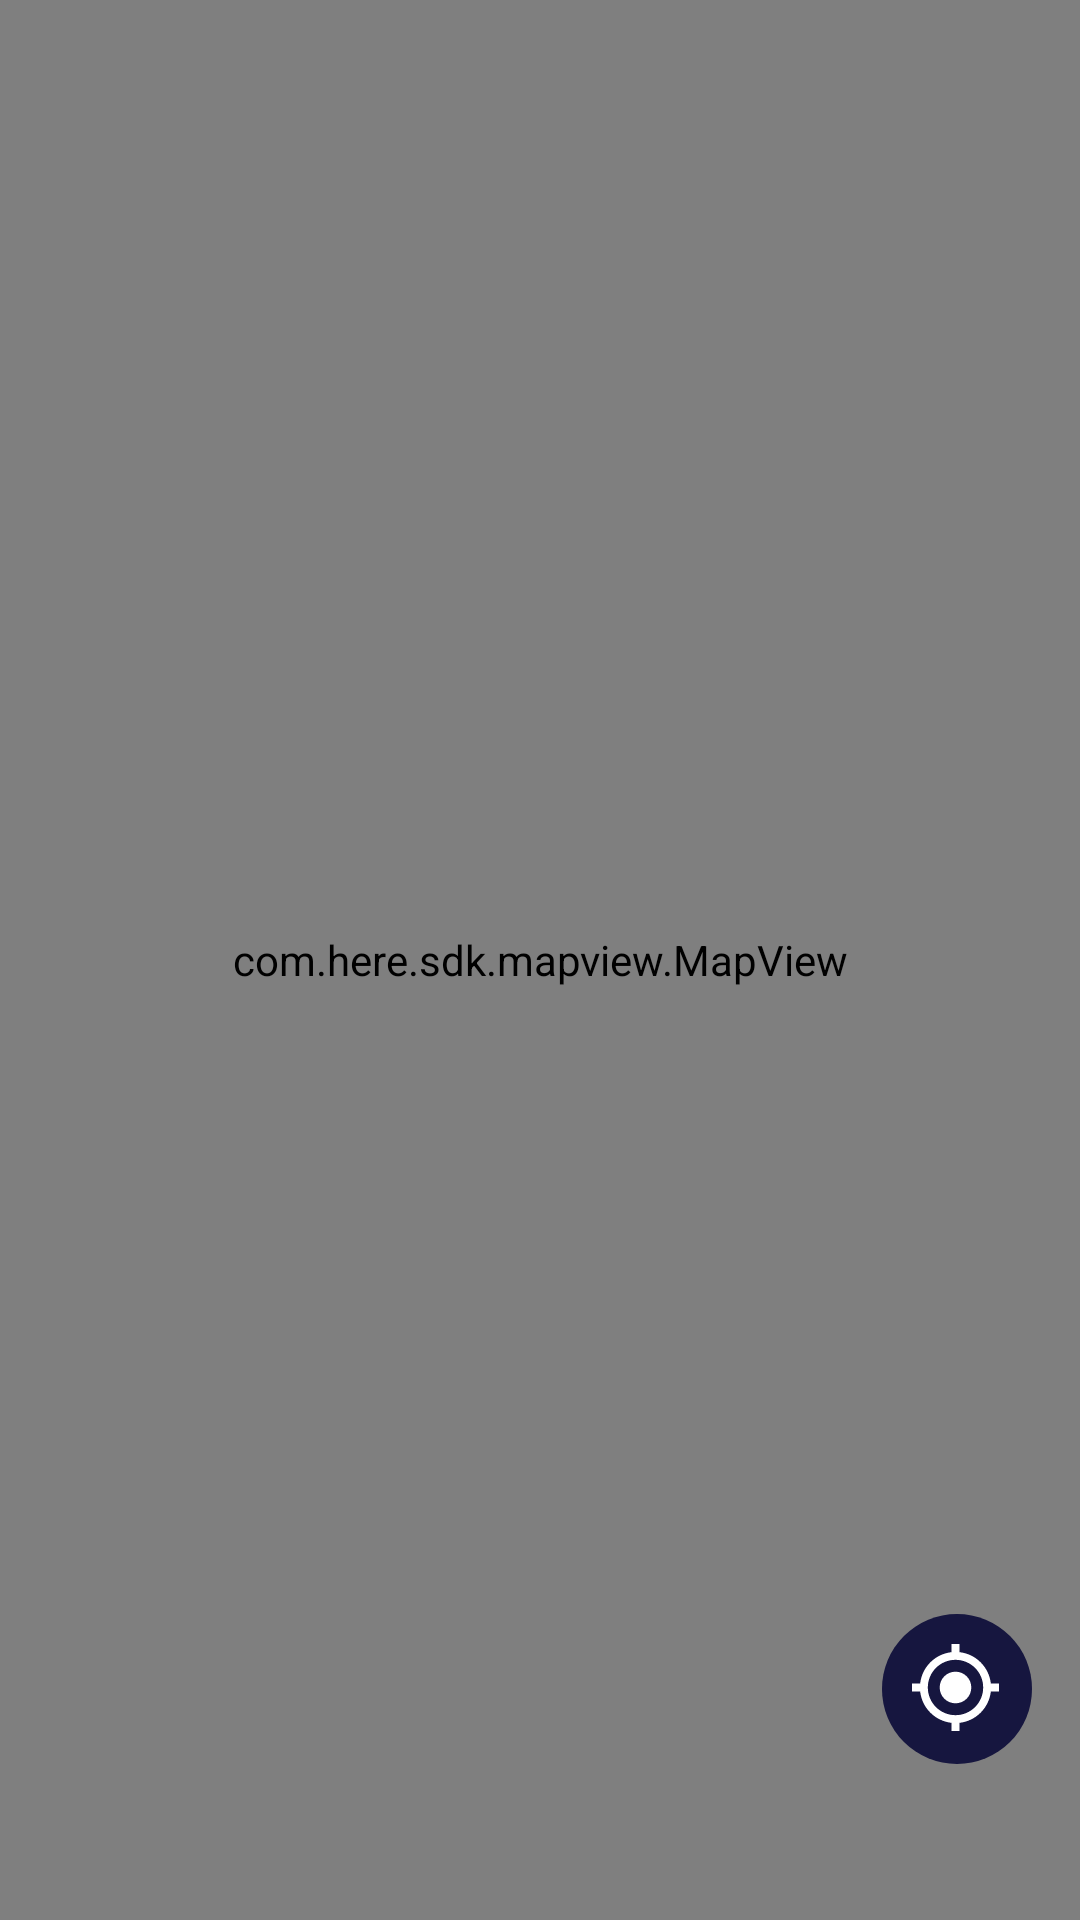

Point at icon controls on the screen. Image size 1080 × 1920, points as (x=x, y=y).
current loc: (x=957, y=1689)
